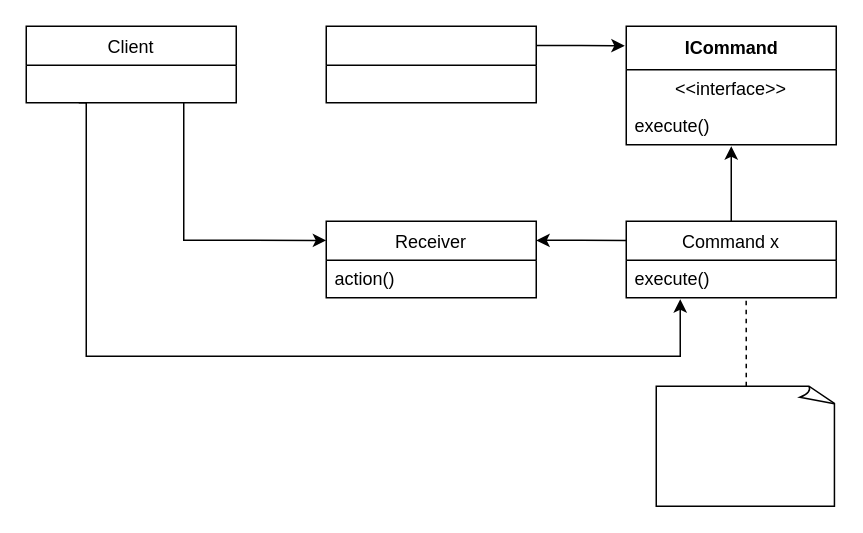
The diagram is 863 pixels wide and 533 high, and some of its shapes have lost their labels. Each missing label, with the centre of its shape:
execute() { receiver.action() }: point 745,445
Invoker: point 430,64
